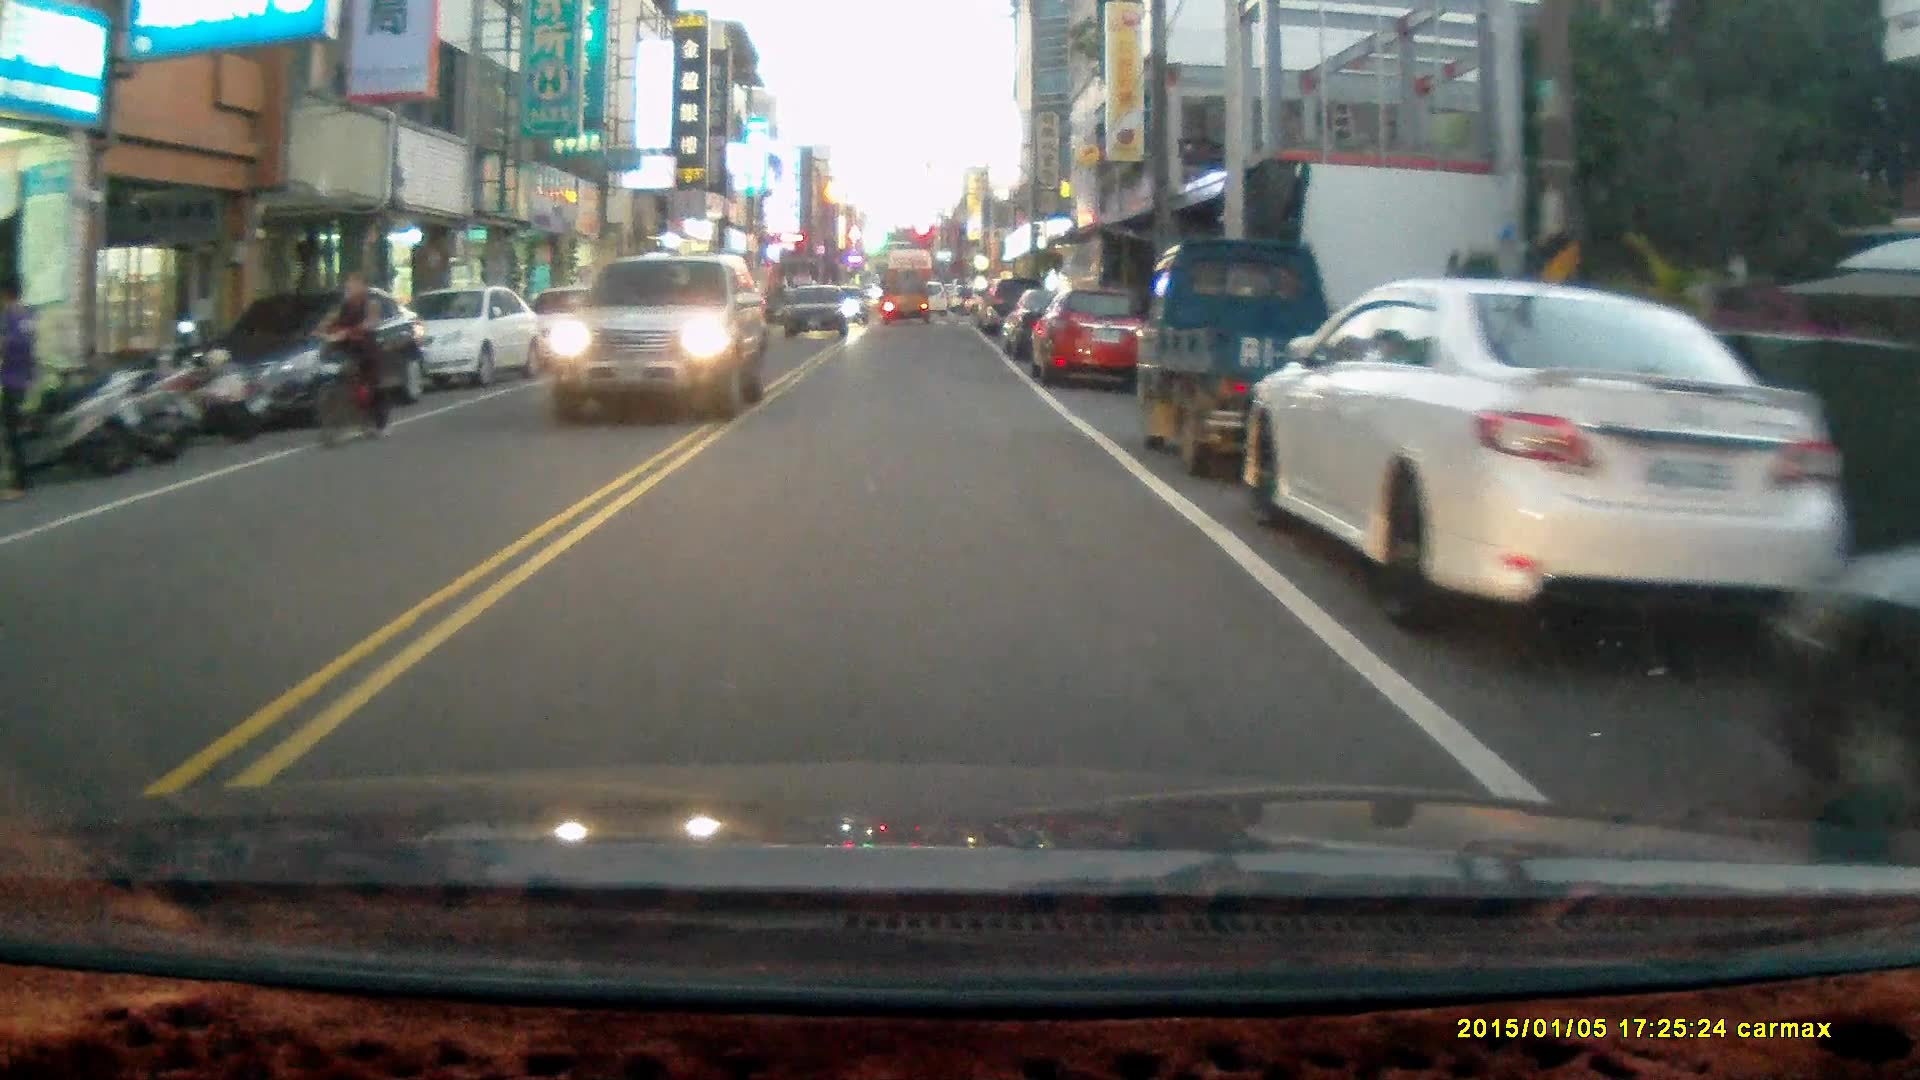pedestrian: (0, 269, 37, 508)
rider: (307, 267, 394, 449)
vehicle: (1240, 276, 1841, 648), (1138, 234, 1387, 481), (547, 252, 771, 427), (184, 286, 420, 426), (353, 286, 538, 395), (1036, 288, 1153, 392), (780, 286, 853, 342), (881, 272, 934, 331)
